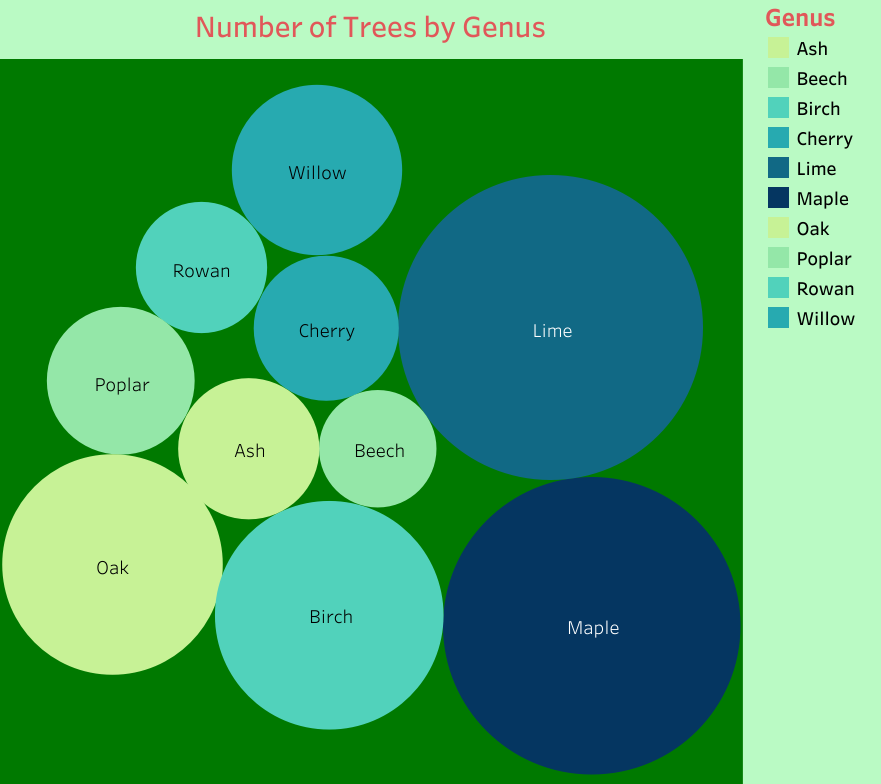

The page's visual inventory and layout, read from the dashboard file:
{"tool":"tableau","page":{"name":"Dashboard 2","canvas":[650,860],"ordinal":1},"visuals":[{"type":"worksheet","title":"Blatt 1","mark":"Automatic","rows":["alley_tree (df_tableau.csv)"],"cols":["genus"],"box":[8,10.3,634,839.5]}]}

Visuals, with their boxes on the page's 650x860 design canvas (x1, y1, x2, y2). These are canvas units, not pixel positions in the 881x784 screenshot, which may show the page scaled, cropped or inside an application window:
"Blatt 1" worksheet: rect(8, 10, 642, 850)
